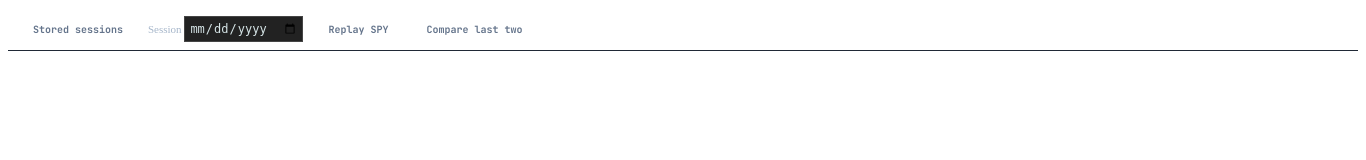
it: absent gap metadata is unknown, never reported as zero
The image size is (1366, 160).
Click the button with test id "solstice-replay-load" at (358, 29), box [315, 18, 401, 40]
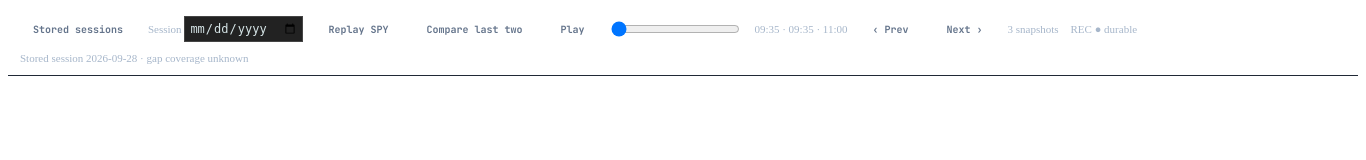
expect the element with test id "solstice-replay-strip" does not show "0 declared gaps": met, box [8, 8, 1358, 76]
expect the text "3 snapshots" is shown: met, box [1008, 21, 1058, 37]
expect the element with test id "solstice-replay-strip" shows "gap coverage unknown": met, box [146, 52, 248, 64]
